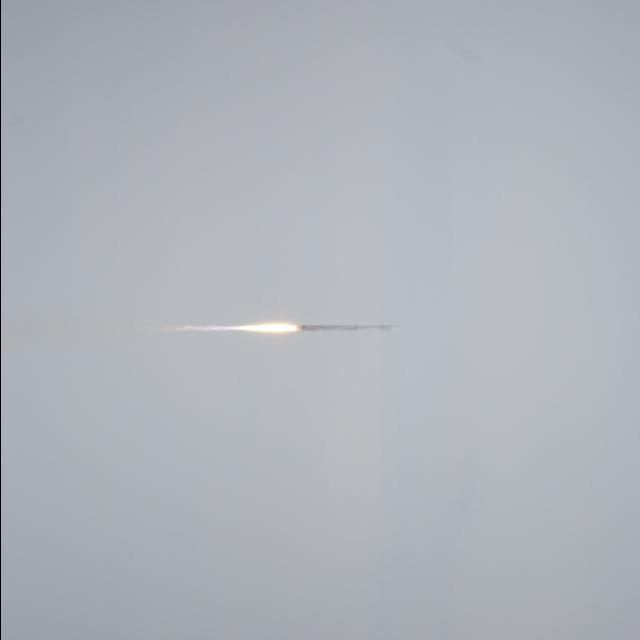missile: (296, 315, 394, 338)
